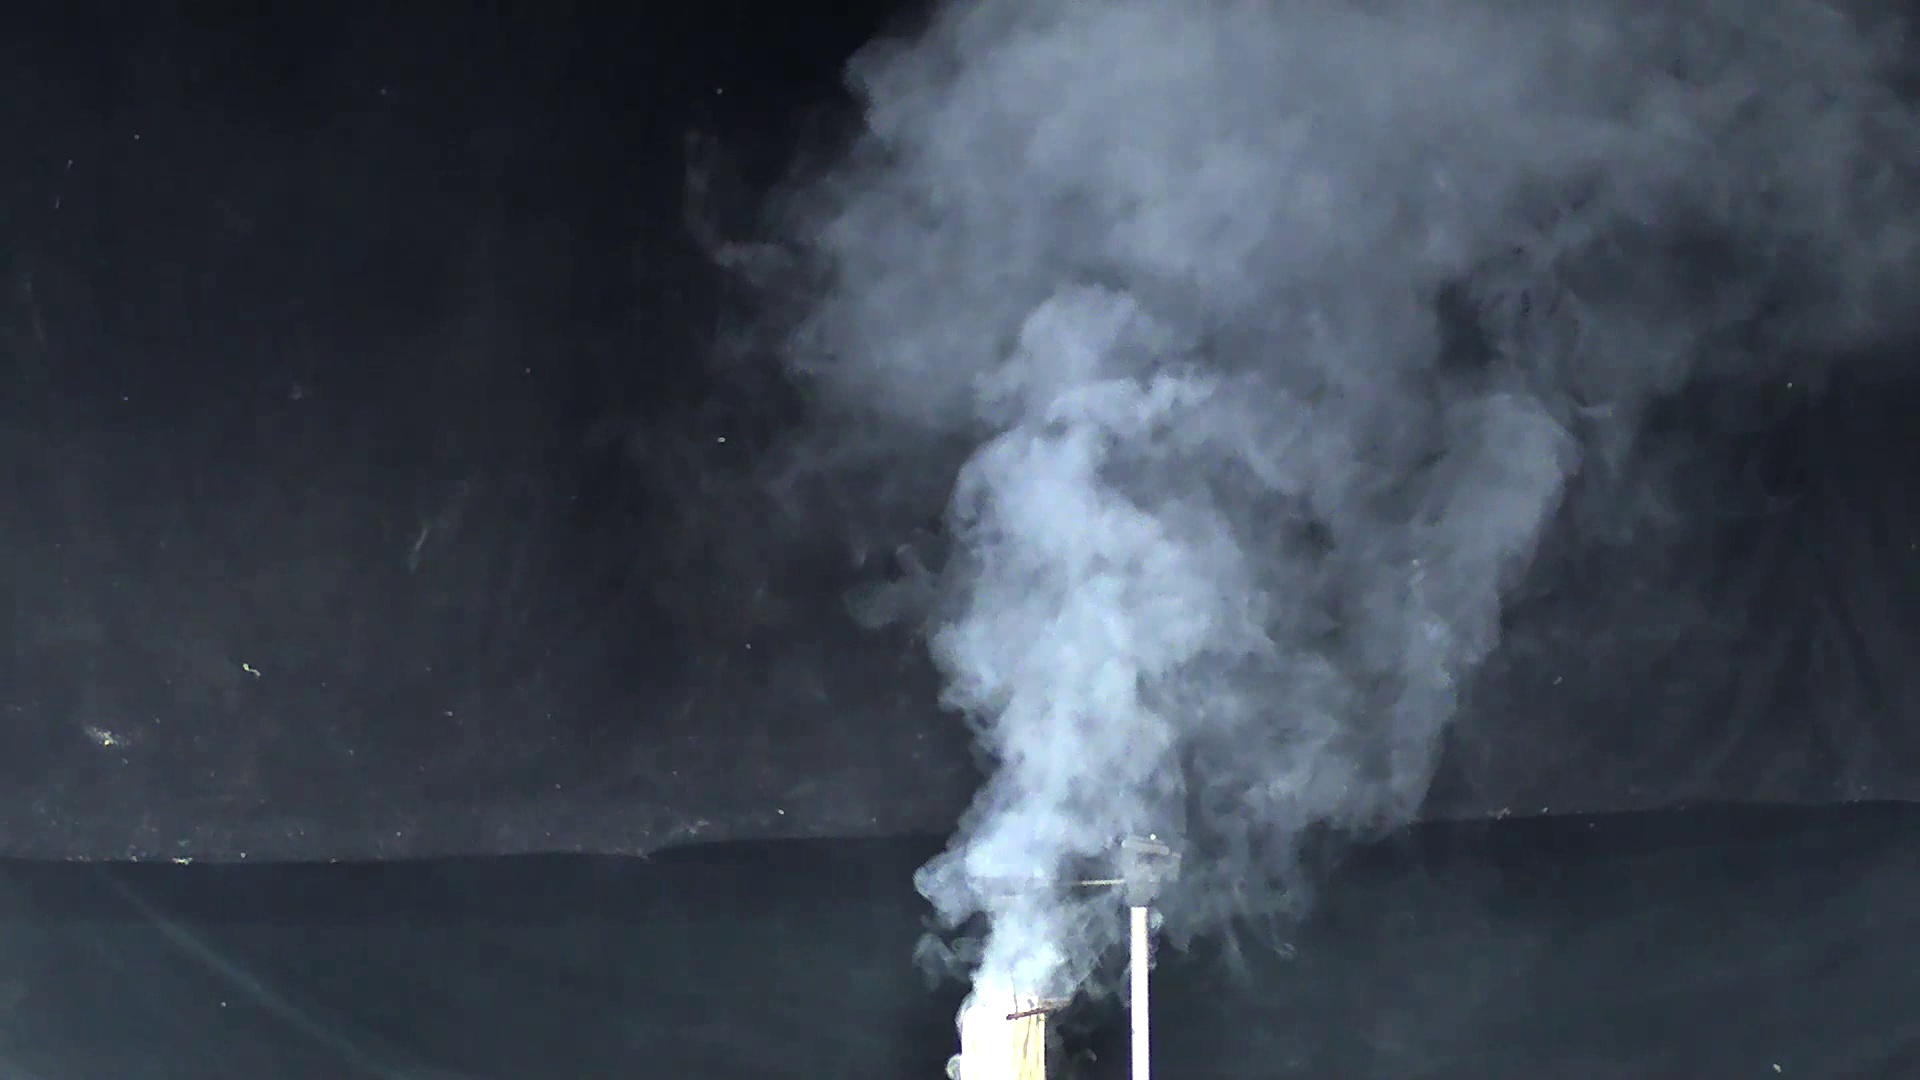smoke: (738, 170, 1619, 997)
